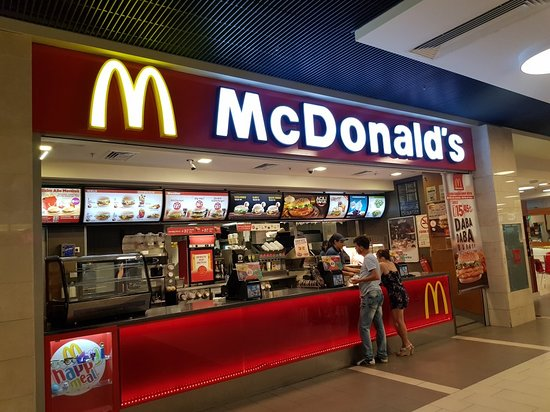mcdonalds: (86, 55, 185, 140)
